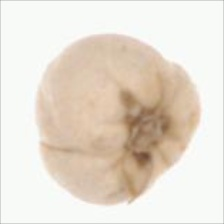L5: (115, 83, 178, 176)
L6: (32, 31, 205, 206)
